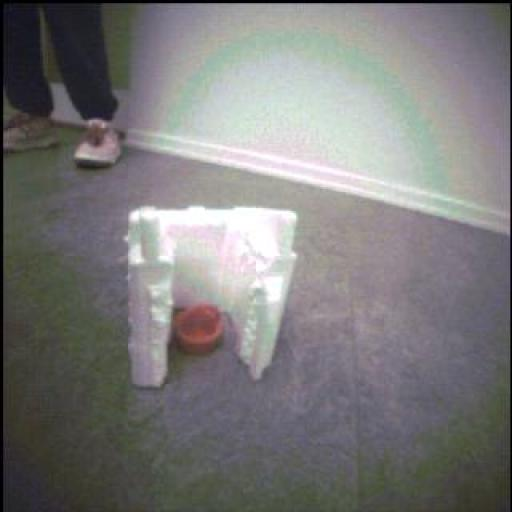Bucket: (177, 302, 228, 359)
